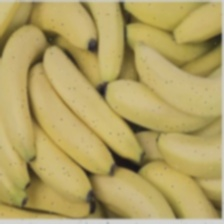banana: (19, 44, 187, 215)
